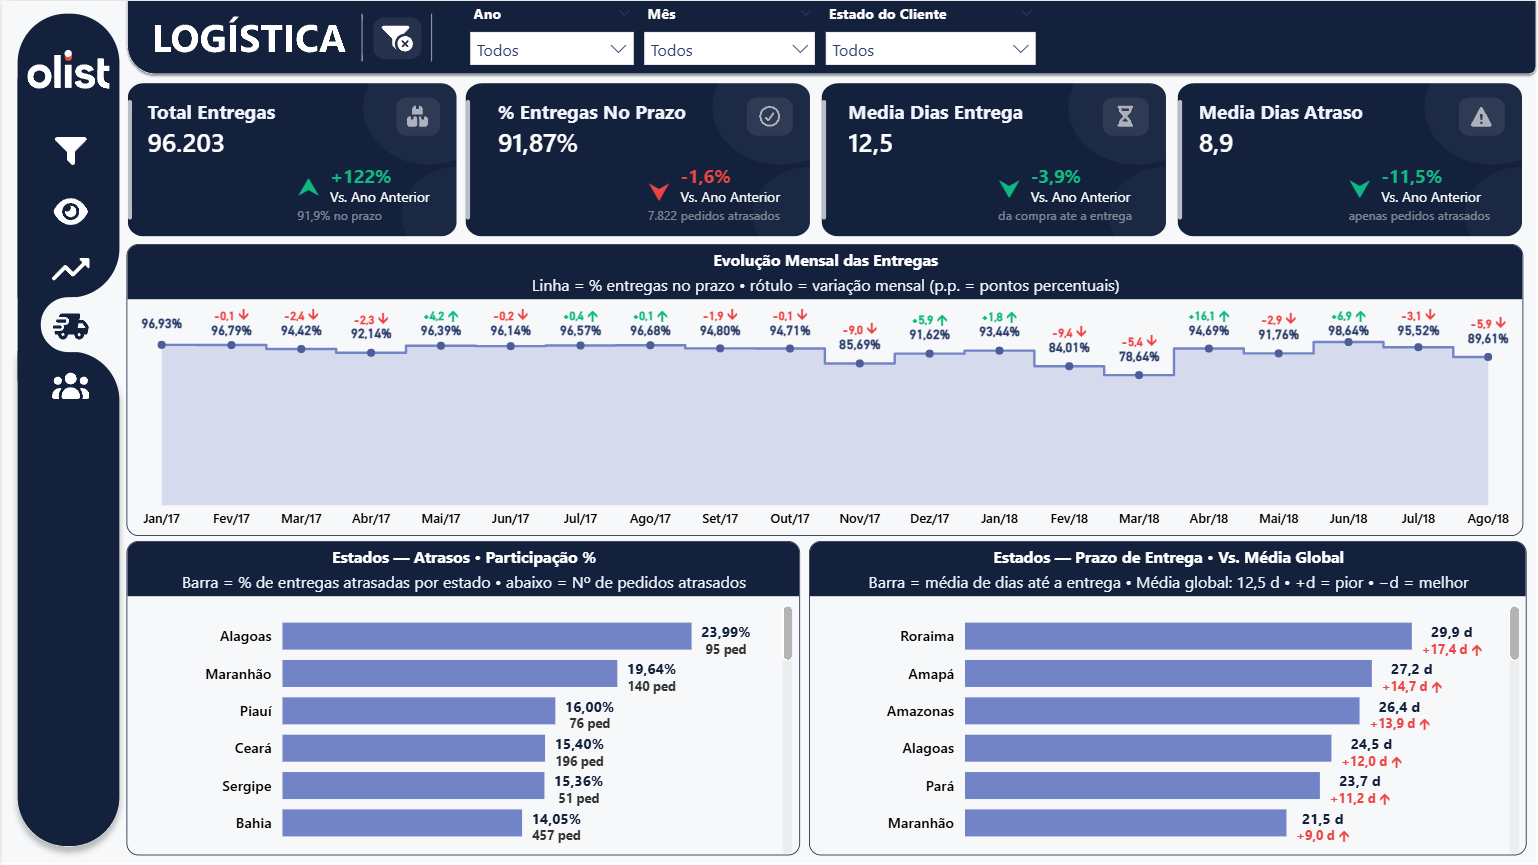

What the dashboard file says about the page in this screenshot:
{"tool":"powerbi","page":{"name":"LOGISTICA","canvas":[1280,720],"ordinal":3},"visuals":[{"type":"group","id":"g1","title":"g_topbar","box":[302.6,3,564.5,58],"z":500},{"type":"cardVisual","title":"grid_cartao","fields":{"Data":["_Medidas.Total Entregas","_Medidas.% Entregas No Prazo","_Medidas.Media Dias Entrega","_Medidas.Media Dias Atraso"]},"box":[101.2,63.8,1178.8,140],"z":2001,"group":"g3"},{"type":"clusteredBarChart","title":"Estados — Prazo de Entrega • Vs. Média Global","fields":{"Category":["Estado.Estado Nome"],"Y":["_Medidas.Media Dias Entrega por Estado Cliente"]},"box":[672,451.1,598.1,262],"z":2500,"group":"g2"},{"type":"group","id":"g2","title":"g_graficos","box":[103.7,203,1166.3,510.2],"z":2501,"group":"g3"},{"type":"group","id":"g3","title":"g_dados","box":[101.2,63.8,1178.8,649.4],"z":3000},{"type":"clusteredBarChart","title":"Estados — Atrasos • Participação %","fields":{"Category":["Estado.Estado Nome"],"Y":["_Medidas.% Entregas Atrasadas por Estado Cliente"]},"box":[103.7,451.1,561.1,262],"z":3000,"group":"g2"},{"type":"group","id":"g4","title":"g_btn_navegacao","box":[19,33,75,310.4],"z":3250},{"type":"group","id":"g5","title":"g_filtros","box":[385.6,3,481.5,58],"z":3501,"group":"g1"},{"type":"areaChart","title":"Evolução Mensal das Entregas","fields":{"Category":["Calendario.MesAnoTexto"],"Y":["_Medidas.% Entregas No Prazo"]},"box":[103.9,203,1164,243.6],"z":4000,"group":"g2"},{"type":"actionButton","title":"btn_vendedores","box":[35.5,302.6,42.2,40.9],"z":4000,"group":"g4"},{"type":"actionButton","title":"btn_logistica","box":[35.6,255,42.2,41.1],"z":4062,"group":"g4"},{"type":"actionButton","title":"btn_comercial","box":[35.6,203,42.2,41.1],"z":4125,"group":"g4"},{"type":"actionButton","title":"btn_visao_geral","box":[35,155.2,42.2,41.3],"z":4250,"group":"g4"},{"type":"actionButton","title":"btn_menu_on","box":[35.8,104.2,42.1,41.1],"z":4375,"group":"g4"},{"type":"slicer","title":"Estado do Cliente","fields":{"Values":["Estado.Estado Nome"]},"box":[682.1,3,185,57.5],"z":4500,"group":"g5"},{"type":"actionButton","title":"btn_home","box":[19,33,75,46.4],"z":4500,"group":"g4"},{"type":"slicer","title":"Mês","fields":{"Values":["Calendario.MesNome"]},"box":[530.6,3,152.5,56.2],"z":4625,"group":"g5"},{"type":"slicer","title":"Ano","fields":{"Values":["Dim_Calendario.Ano"]},"box":[385.6,3,146,58],"z":4750,"group":"g5"},{"type":"actionButton","title":"btn_reset_filtro_rapido","box":[302.6,10.4,52.1,41.1],"z":5000,"group":"g1"}]}

Visuals, with their boxes in screenshot pixels (x1, y1, x2, y2), scaled from the page's 1280x720 canvas onto the 1538x865 screenshot:
"g_topbar" group: {"left": 364, "top": 4, "right": 1042, "bottom": 73}
"grid_cartao" cardVisual: {"left": 122, "top": 77, "right": 1537, "bottom": 245}
"Estados — Prazo de Entrega • Vs. Média Global" clusteredBarChart: {"left": 807, "top": 542, "right": 1526, "bottom": 857}
"g_graficos" group: {"left": 125, "top": 244, "right": 1526, "bottom": 857}
"g_dados" group: {"left": 122, "top": 77, "right": 1537, "bottom": 857}
"Estados — Atrasos • Participação %" clusteredBarChart: {"left": 125, "top": 542, "right": 799, "bottom": 857}
"g_btn_navegacao" group: {"left": 23, "top": 40, "right": 113, "bottom": 413}
"g_filtros" group: {"left": 463, "top": 4, "right": 1042, "bottom": 73}
"Evolução Mensal das Entregas" areaChart: {"left": 125, "top": 244, "right": 1523, "bottom": 537}
"btn_vendedores" actionButton: {"left": 43, "top": 364, "right": 93, "bottom": 413}
"btn_logistica" actionButton: {"left": 43, "top": 306, "right": 93, "bottom": 356}
"btn_comercial" actionButton: {"left": 43, "top": 244, "right": 93, "bottom": 293}
"btn_visao_geral" actionButton: {"left": 42, "top": 186, "right": 93, "bottom": 236}
"btn_menu_on" actionButton: {"left": 43, "top": 125, "right": 94, "bottom": 175}
"Estado do Cliente" slicer: {"left": 820, "top": 4, "right": 1042, "bottom": 73}
"btn_home" actionButton: {"left": 23, "top": 40, "right": 113, "bottom": 95}
"Mês" slicer: {"left": 638, "top": 4, "right": 821, "bottom": 71}
"Ano" slicer: {"left": 463, "top": 4, "right": 639, "bottom": 73}
"btn_reset_filtro_rapido" actionButton: {"left": 364, "top": 12, "right": 426, "bottom": 62}
